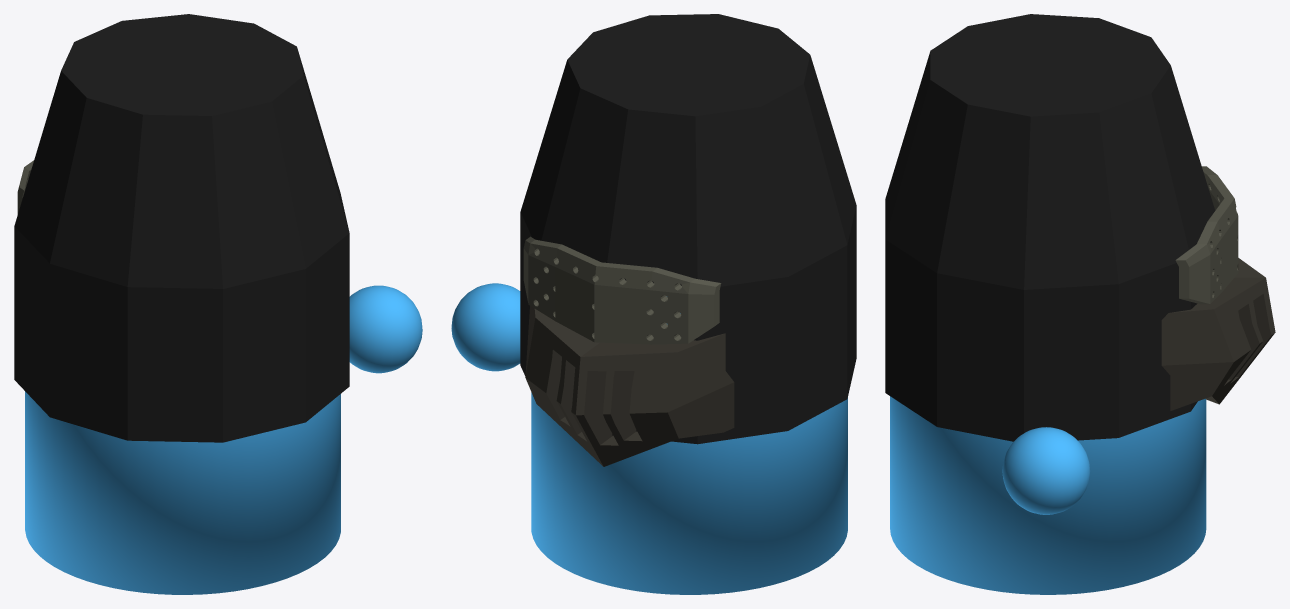
Rendered from agent.fbx.
3 renders of one model, left to right at view 1: azimuth 30°, elevation 25°; view 2: azimuth 150°, elevation 25°; view 3: azimuth 270°, elevation 25°, orthographic.
Visible parts, largest first — view 1: Mask, Swordsman, Hand; view 2: Mask, Swordsman, Helmet, EyeMask, Hand; view 3: Mask, Swordsman, Helmet, Hand, EyeMask.
Boxes of the visible parts, x1,y1,x2,y2 form: Mask: (14, 14, 349, 442); Swordsman: (25, 391, 340, 594); Hand: (349, 285, 422, 373); Mask: (520, 14, 856, 444); Swordsman: (531, 313, 847, 594); Helmet: (525, 306, 734, 466); EyeMask: (523, 236, 721, 344); Hand: (451, 283, 520, 371); Mask: (885, 14, 1215, 441); Swordsman: (890, 396, 1206, 594); Helmet: (1161, 258, 1275, 410); Hand: (1002, 427, 1090, 514); EyeMask: (1175, 166, 1238, 304).
Bounding box in the file's own units: 2.76 × 3.23 × 2.47.
